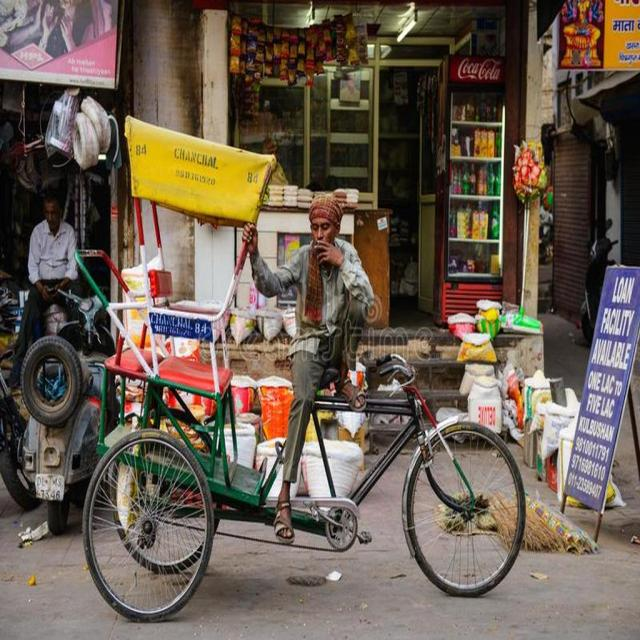smoking: (304, 190, 344, 296)
